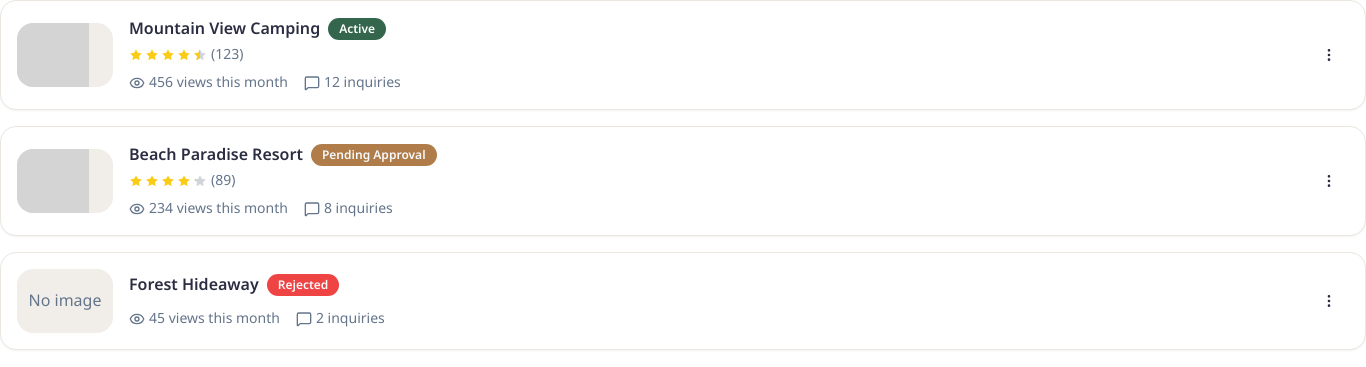
it: CampsiteTable › Icons and Visual Elements › renders edit icon in dropdown menu
Click the button without text in the row of "Active".
click(1329, 55)  # box top-left (1309, 35), bottom-right (1349, 75)
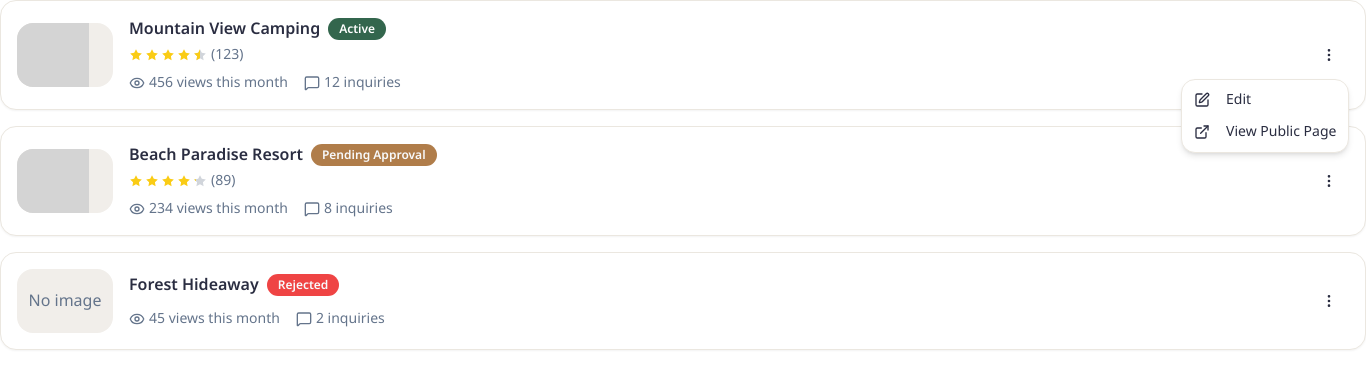
Check: the menu item "Edit" is shown, box top-left (1194, 89), bottom-right (1251, 110)
